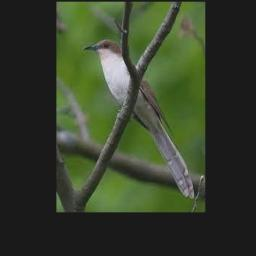Cuckoo: (83, 39, 194, 198)
